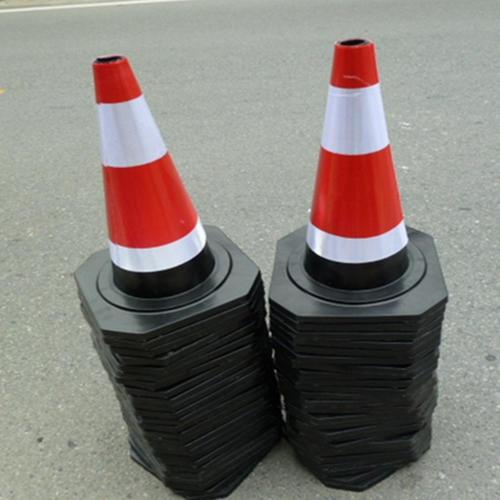cone_barrel: (85, 54, 223, 299), (292, 39, 424, 295)
